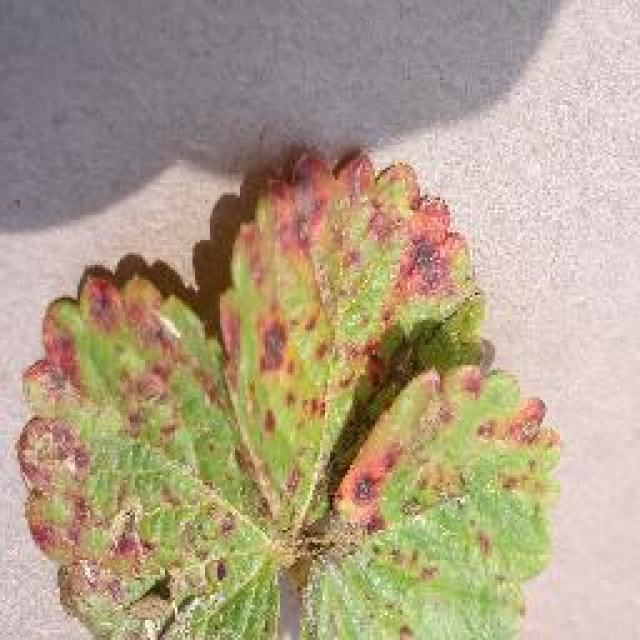Strawberry leaf scorch: (32, 202, 523, 560)
